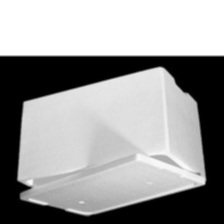foam_box: (12, 62, 209, 220)
